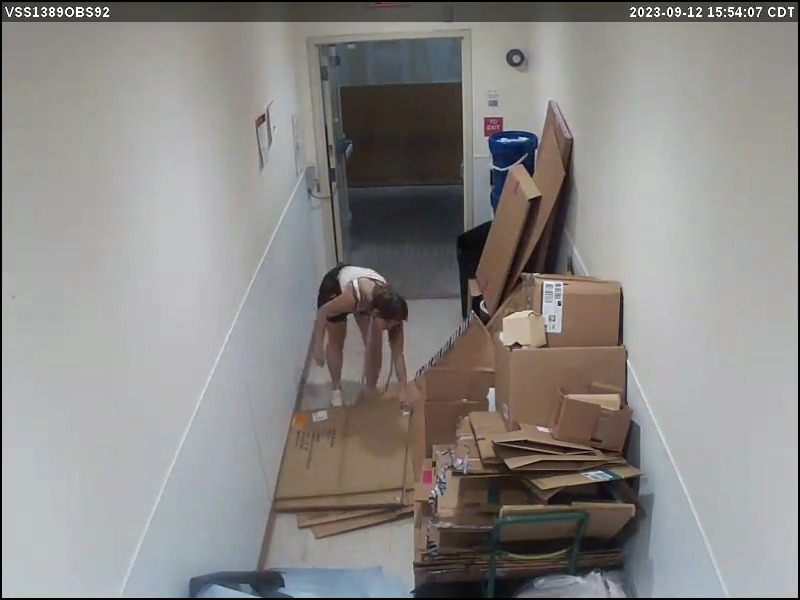No-gloves: (309, 337, 331, 372), (396, 378, 412, 413)
